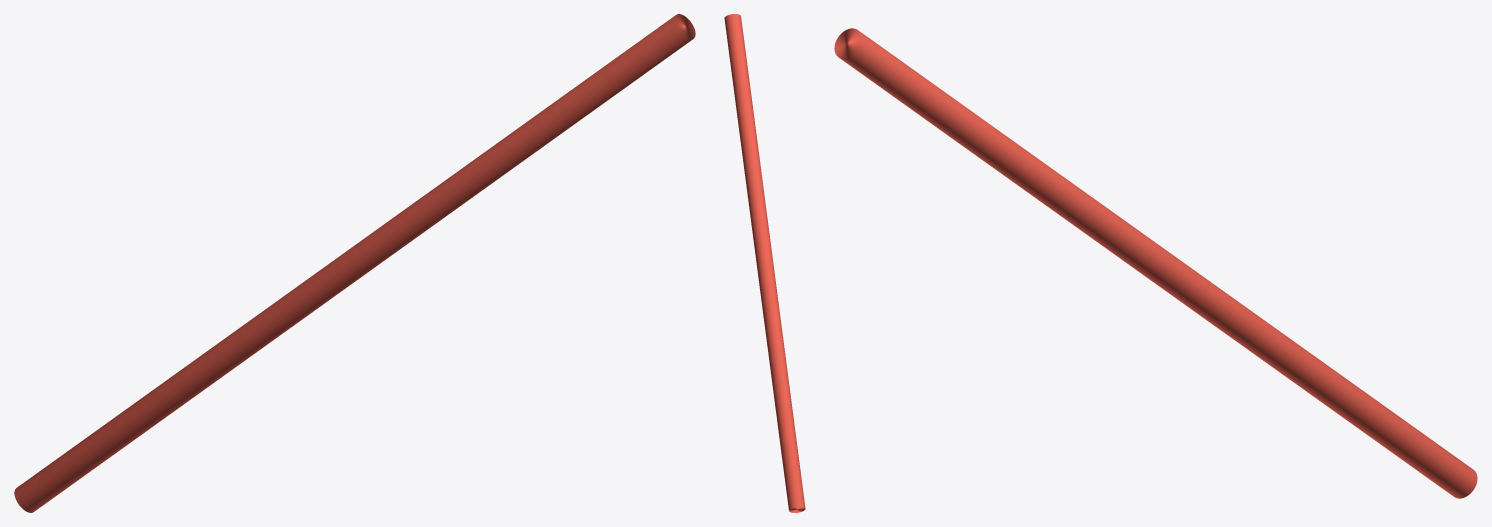
File: GT3_Hydration_Bite_Valve_Tube.glb
3 renders of one model, left to right at view 1: azimuth 30°, elevation 25°; view 2: azimuth 150°, elevation 25°; view 3: azimuth 270°, elevation 25°, orthographic. The views are drawn at different scales.
Visible parts, largest first — view 1: GT3_Hydration_Bite_Valve_Tube; view 2: GT3_Hydration_Bite_Valve_Tube; view 3: GT3_Hydration_Bite_Valve_Tube.
Boxes of the visible parts, x1,y1,x2,y2 form: GT3_Hydration_Bite_Valve_Tube: (14, 14, 695, 512); GT3_Hydration_Bite_Valve_Tube: (724, 14, 805, 512); GT3_Hydration_Bite_Valve_Tube: (834, 28, 1477, 498).
Bounding box in the file's own units: 0.1592 × 0.2221 × 0.1917.
